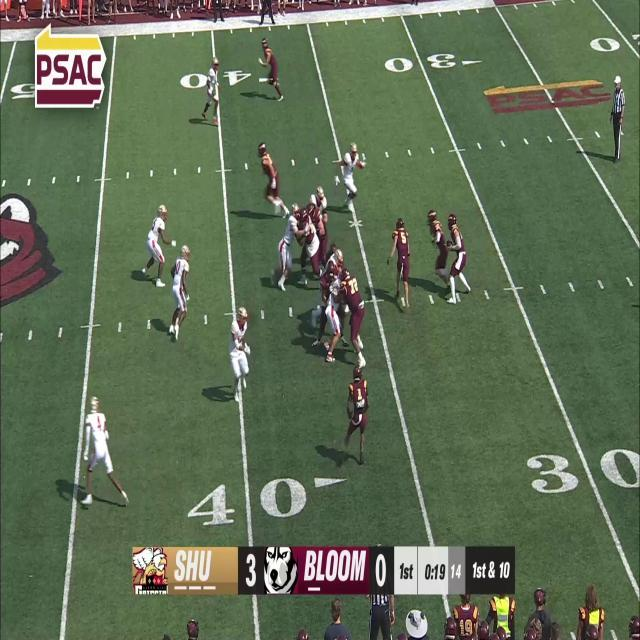football: (446, 239, 454, 253)
